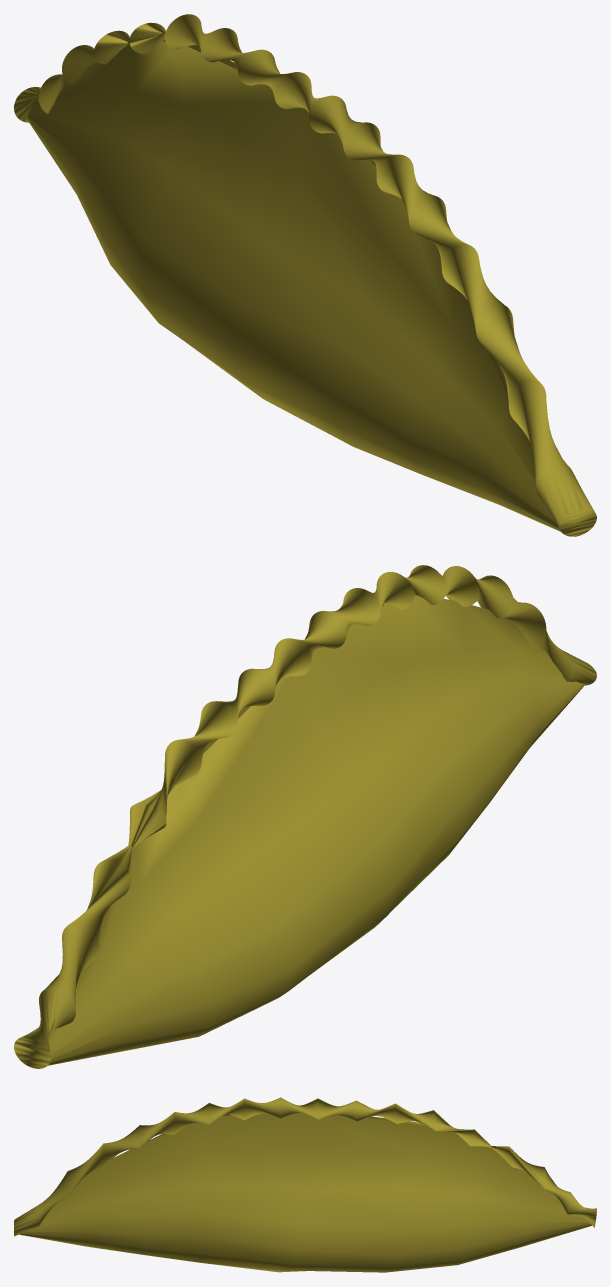
Rendered from gujiya.glb.
3 views of the same model, one above another, from view 1: azimuth 30°, elevation 25°; view 2: azimuth 150°, elevation 25°; view 3: azimuth 270°, elevation 25° (orthographic). The views are drawn at different scales.
Visible parts, largest first — view 1: Plane, Cylinder; view 2: Plane, Cylinder; view 3: Plane, Cylinder.
Boxes of the visible parts, x1=… form: Plane: x1=27, y1=40, x2=560, y2=531; Cylinder: x1=14, y1=14, x2=596, y2=536; Plane: x1=48, y1=595, x2=584, y2=1065; Cylinder: x1=14, y1=565, x2=596, y2=1068; Plane: x1=19, y1=1113, x2=591, y2=1272; Cylinder: x1=14, y1=1097, x2=596, y2=1236.
Bounding box in the file's own units: 0.3419 × 0.6705 × 2.04.
